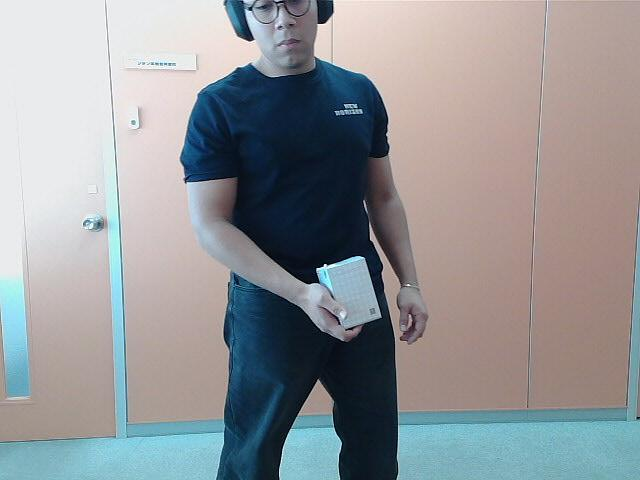Blind_box: (317, 255, 382, 329)
